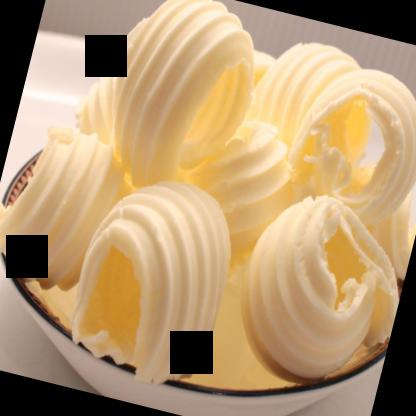butter: (225, 178, 415, 408), (60, 162, 244, 394), (226, 29, 415, 254), (97, 0, 268, 206), (0, 118, 138, 304)
